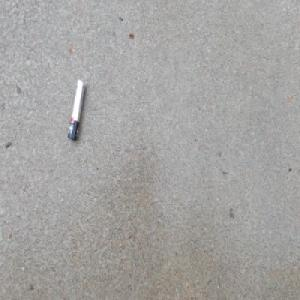Battery: (67, 78, 86, 142)
